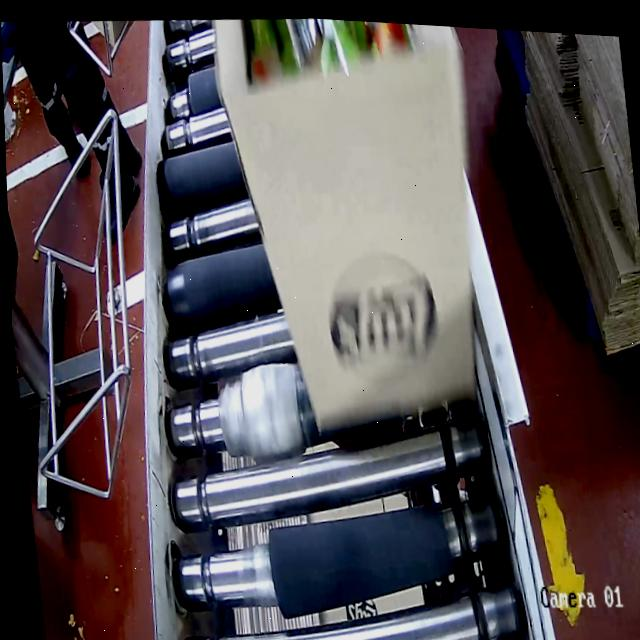YOGURT_HERB: (239, 14, 422, 82)
